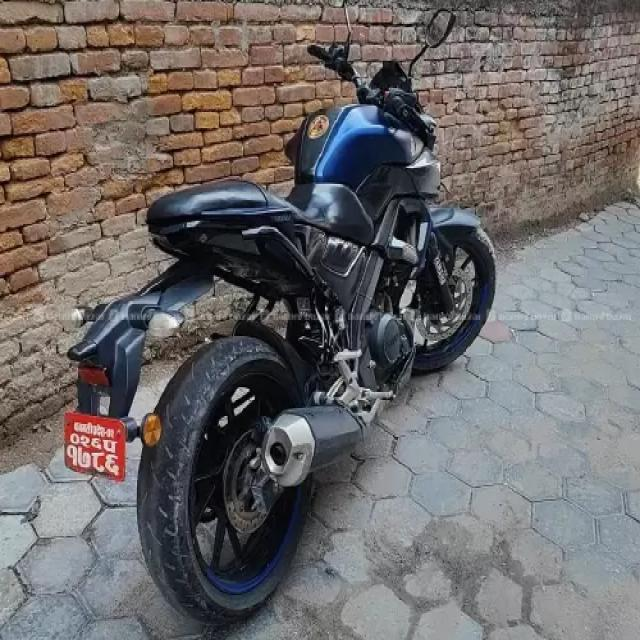License-plate: (56, 407, 132, 491)
